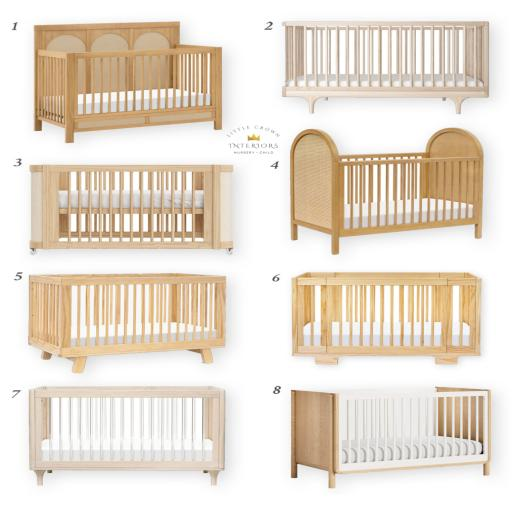crib: (291, 129, 483, 254), (35, 23, 221, 142), (292, 388, 490, 488), (29, 274, 225, 372), (29, 387, 224, 485), (283, 22, 488, 113), (30, 165, 232, 253), (292, 273, 481, 364)
